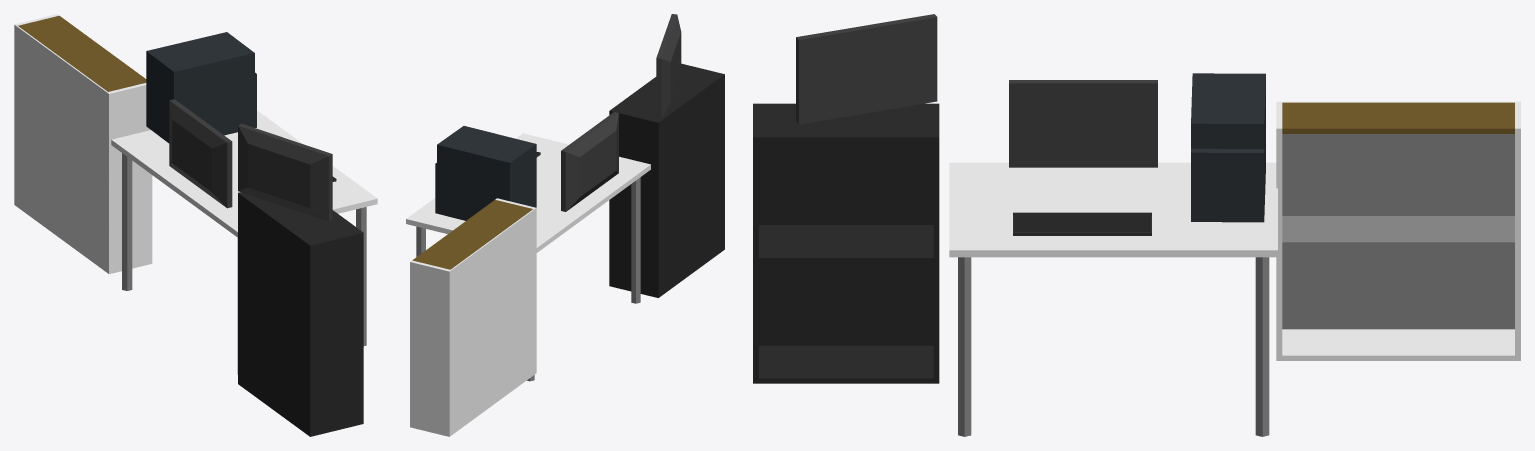
The model's file is computrerarea.dae.
3 views of the same model, side by side, from view 1: azimuth 30°, elevation 25°; view 2: azimuth 150°, elevation 25°; view 3: azimuth 270°, elevation 25° (orthographic). The views are drawn at different scales.
Visible parts, largest first — view 1: SketchUp_011_ID85, SketchUp_010_ID79, Cube_001, SketchUp_003_ID25_001, Plane_001, Plane; view 2: SketchUp_011_ID85, SketchUp_010_ID79, Cube_001, SketchUp_003_ID25_001, Plane, Plane_001; view 3: SketchUp_011_ID85, SketchUp_010_ID79, SketchUp_003_ID25_001, Plane, Plane_001, Cube_001, keyboard.
Boxes of the visible parts, bbox=[...] form: SketchUp_011_ID85: bbox=[14, 14, 152, 274]; SketchUp_010_ID79: bbox=[238, 192, 363, 436]; Cube_001: bbox=[146, 32, 256, 143]; SketchUp_003_ID25_001: bbox=[111, 110, 377, 374]; Plane_001: bbox=[238, 124, 332, 221]; Plane: bbox=[169, 99, 232, 208]; SketchUp_011_ID85: bbox=[410, 198, 536, 436]; SketchUp_010_ID79: bbox=[609, 63, 724, 297]; Cube_001: bbox=[435, 126, 536, 220]; SketchUp_003_ID25_001: bbox=[406, 133, 650, 381]; Plane: bbox=[561, 112, 618, 211]; Plane_001: bbox=[656, 14, 681, 118]; SketchUp_011_ID85: bbox=[1276, 101, 1520, 360]; SketchUp_010_ID79: bbox=[753, 103, 939, 383]; SketchUp_003_ID25_001: bbox=[949, 162, 1277, 436]; Plane: bbox=[1009, 80, 1157, 167]; Plane_001: bbox=[796, 14, 937, 124]; Cube_001: bbox=[1191, 73, 1265, 222]; keyboard: bbox=[1013, 212, 1151, 235].
Size of the model in its own units: 0.707 by 2.51 by 1.21.
8 materials, 1 textured.
